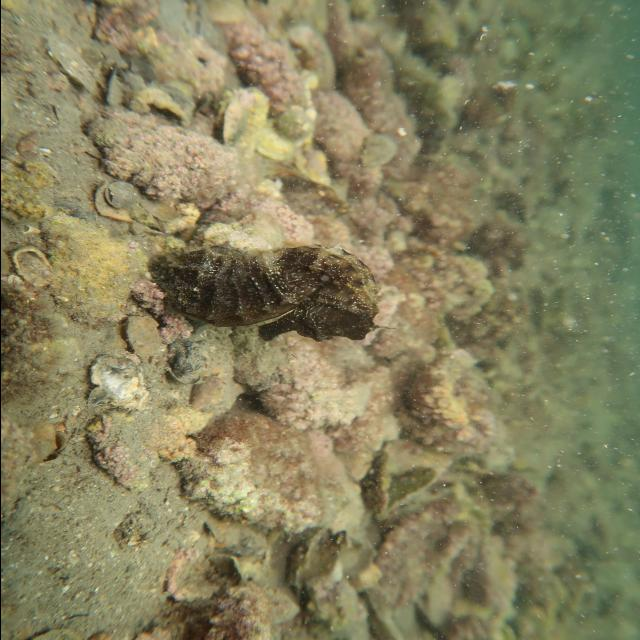Guttu: (248, 298, 378, 350)
